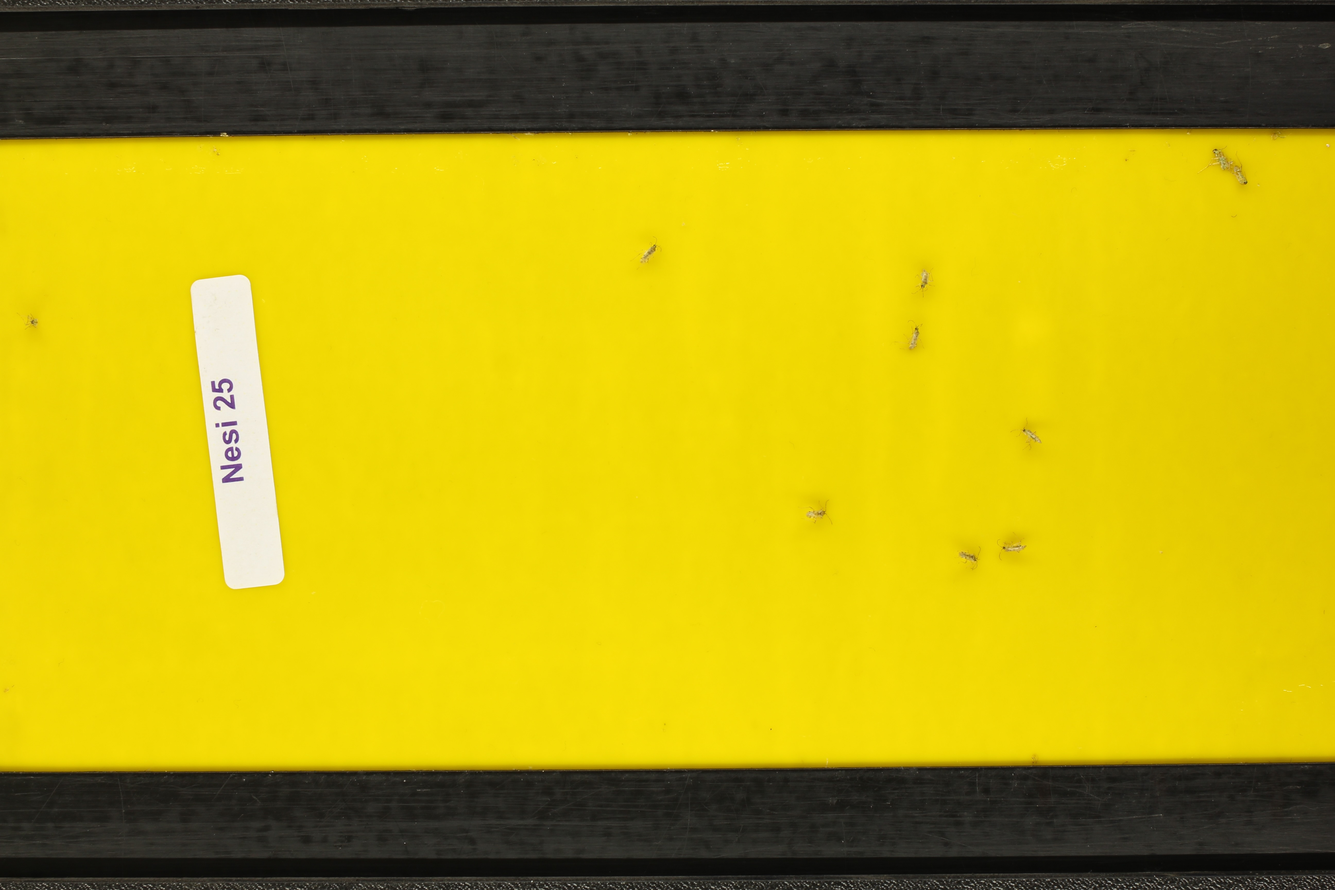NC: (1012, 418, 1048, 451), (632, 235, 667, 268), (992, 533, 1032, 560), (949, 545, 986, 572), (800, 498, 834, 526), (901, 318, 927, 354), (913, 263, 937, 302), (1204, 143, 1232, 174), (1227, 159, 1254, 186)
